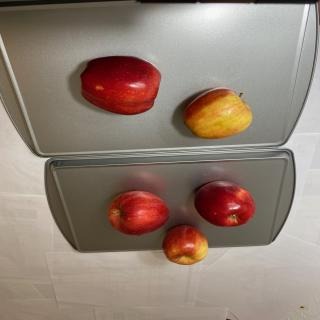Apple: (80, 55, 161, 115), (183, 87, 253, 139), (194, 180, 255, 227), (108, 190, 170, 236), (162, 224, 208, 266)
